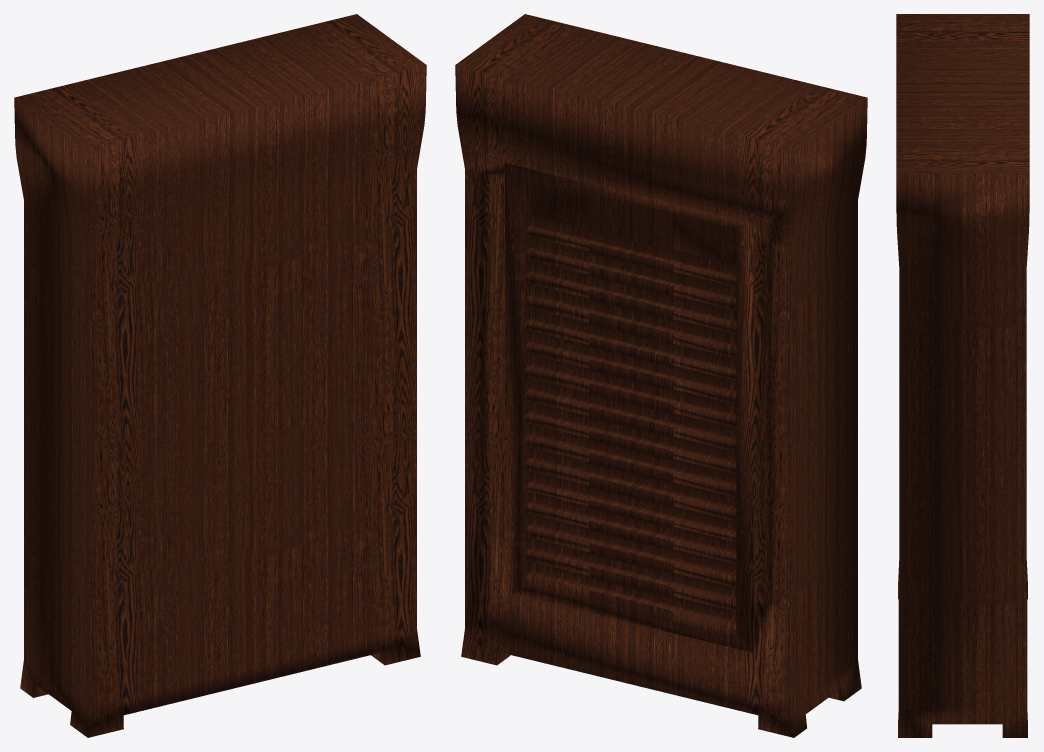
The model's file is wardrobe.glb.
3 views of the same model, side by side, from view 1: azimuth 30°, elevation 25°; view 2: azimuth 150°, elevation 25°; view 3: azimuth 270°, elevation 25° (orthographic). The views are drawn at different scales.
Parts seen in each view (by area): view 1: wardrobe; view 2: wardrobe; view 3: wardrobe.
Part boxes in pixels (x1,y1,x2,y2): wardrobe: (14,14,426,737); wardrobe: (455,14,867,737); wardrobe: (896,14,1029,737).
Bounding box in the file's own units: 1.24 × 2.05 × 0.4384.
1 material, 1 textured.
